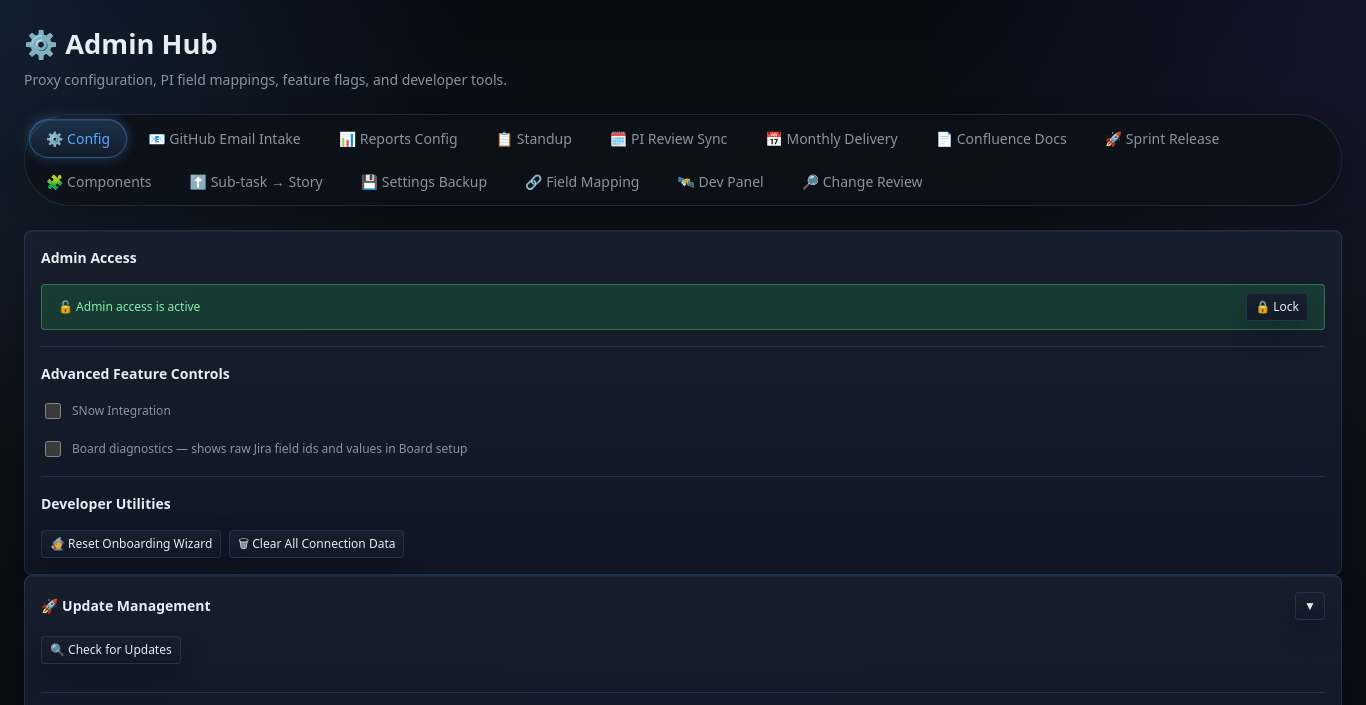
Test: Diagnostics section › renders the Copy Report button when result is available
Click the tab "🛰️ Dev Panel". click: coordinates (721, 182)
box: x1=660 y1=162 x2=781 y2=201
(page scrolled)
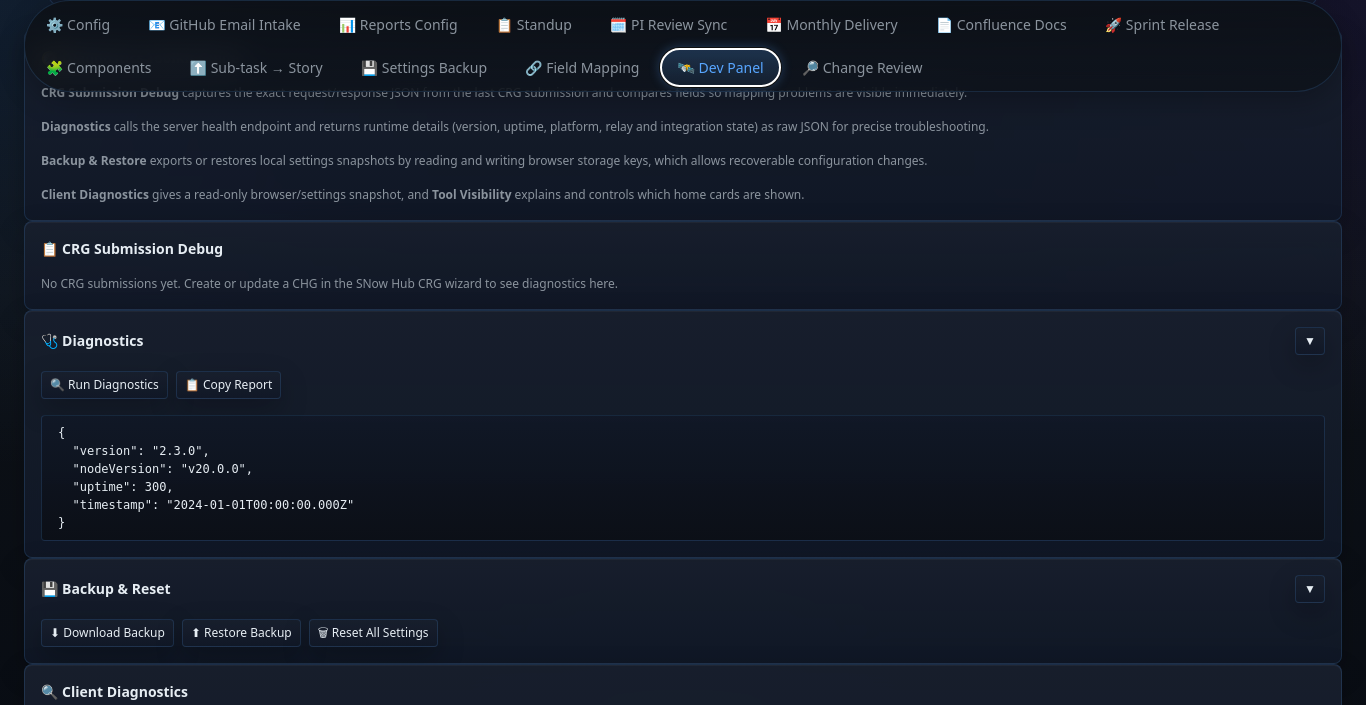
Result: the button "📋 Copy Report" is shown at x1=176 y1=371 x2=281 y2=399
